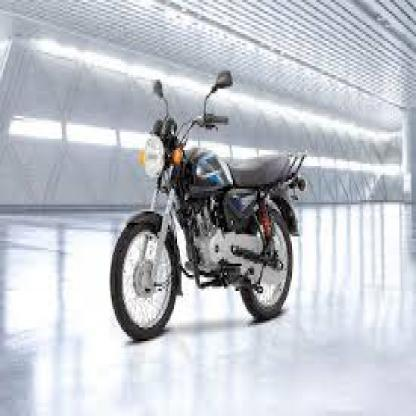Motorcycle: (101, 68, 304, 350)
